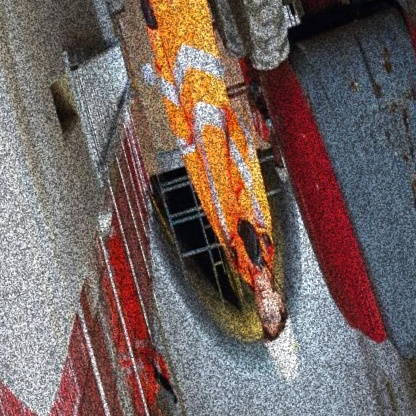vest: (142, 1, 295, 300), (98, 284, 159, 416), (121, 298, 176, 408), (235, 56, 276, 150)
white: (251, 301, 316, 394), (274, 161, 291, 188)
